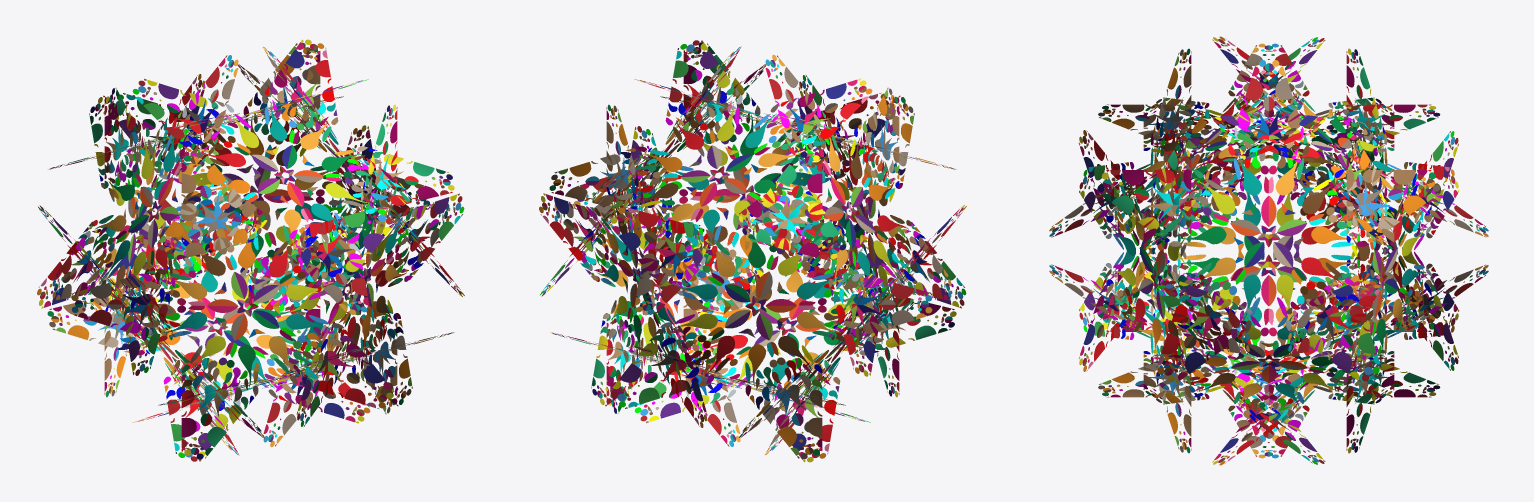
File: 25GreatIcosidodecahedron.gltf
The picture shows the model from 3 angles, left to right: view 1: azimuth 30°, elevation 25°; view 2: azimuth 150°, elevation 25°; view 3: azimuth 270°, elevation 25°; orthographic projection.
Parts seen in each view (by area): view 1: 7GreatIcosidodecahedron; view 2: 7GreatIcosidodecahedron; view 3: 7GreatIcosidodecahedron.
Boxes of the visible parts, x1,y1,x2,y2 form: 7GreatIcosidodecahedron: (37,39,464,461); 7GreatIcosidodecahedron: (539,40,966,462); 7GreatIcosidodecahedron: (1049,36,1488,465).
Size of the model in its own units: 1.24 by 1.24 by 1.24.
Materials: 1 (1 with a texture image).
